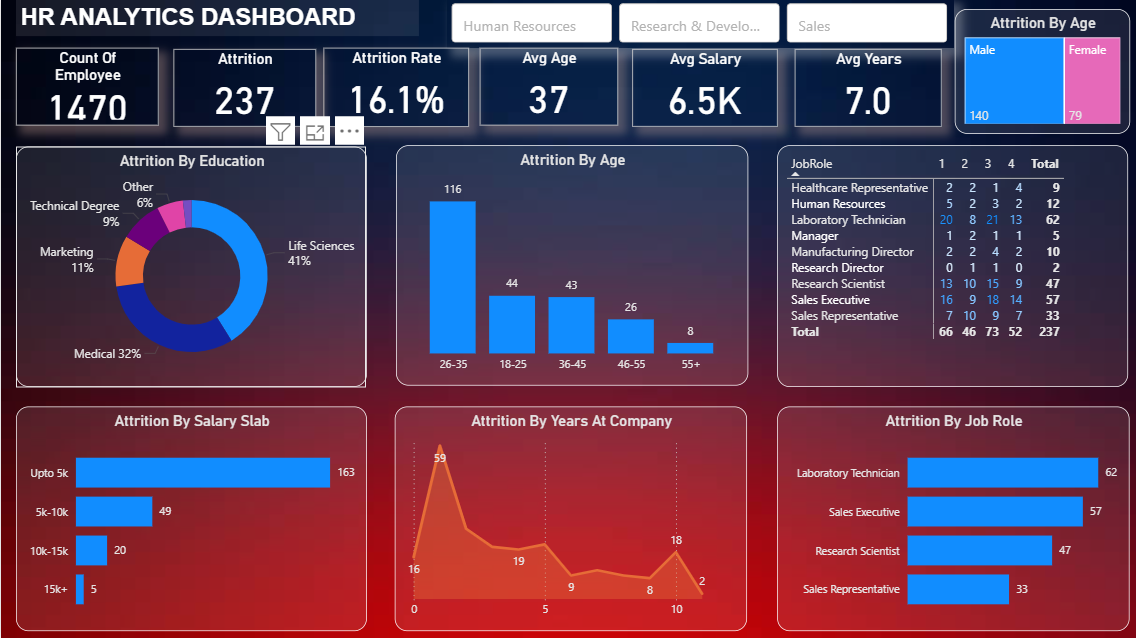

Layout of this report page (visuals, bound fields, positions):
{"tool":"powerbi","page":{"name":"Page 1","canvas":[1280,720],"ordinal":0},"visuals":[{"type":"card","title":"Count Of Employee","fields":{"Values":["CountNonNull(HR_Analytics.EmpID)"]},"box":[16.1,54.8,159.7,87.1],"z":0},{"type":"card","title":"Attrition Rate","fields":{"Values":["HR_Analytics.AttritionRate"]},"box":[361.3,54.8,162.9,88.7],"z":1000},{"type":"card","title":"Avg Age","fields":{"Values":["Avg(HR_Analytics.Age)"]},"box":[537.1,54.8,154.8,87.1],"z":2000},{"type":"card","title":"Attrition","fields":{"Values":["Sum(HR_Analytics.AttritionCount)"]},"box":[193.5,56.5,159.7,87.1],"z":3000},{"type":"card","title":"Avg Salary","fields":{"Values":["Avg(HR_Analytics.MonthlyIncome)"]},"box":[708.1,56.5,162.9,87.1],"z":4000},{"type":"card","title":"Avg Years","fields":{"Values":["Avg(HR_Analytics.YearsAtCompany)"]},"box":[890.3,56.5,164.5,87.1],"z":5000},{"type":"donutChart","title":"Attrition By Education","fields":{"Category":["HR_Analytics.EducationField"],"Y":["CountNonNull(HR_Analytics.Attrition)"]},"box":[16.1,166.1,393.5,269.4],"z":6000},{"type":"columnChart","title":"Attrition By Age","fields":{"Y":["Sum(HR_Analytics.AttritionCount)"],"Category":["HR_Analytics.AgeGroup"]},"box":[443.5,164.5,395.2,269.4],"z":7000},{"type":"pivotTable","fields":{"Rows":["HR_Analytics.JobRole"],"Columns":["HR_Analytics.JobSatisfaction"],"Values":["Sum(HR_Analytics.AttritionCount)"]},"box":[871,164.5,393.5,271],"z":8000},{"type":"barChart","title":"Attrition By Salary Slab","fields":{"Category":["HR_Analytics.SalarySlab"],"Y":["Sum(HR_Analytics.AttritionCount)"]},"box":[16.1,456.5,393.5,251.6],"z":9000},{"type":"barChart","title":"Attrition By Job Role","fields":{"Category":["HR_Analytics.JobRole"],"Y":["Sum(HR_Analytics.AttritionCount)"]},"box":[871,456.5,395.2,251.6],"z":10000},{"type":"areaChart","title":"Attrition By Years At Company","fields":{"Category":["HR_Analytics.YearsAtCompany"],"Y":["Sum(HR_Analytics.AttritionCount)"]},"box":[441.9,456.5,395.2,251.6],"z":11000},{"type":"treemap","title":"Attrition By Age","fields":{"Group":["HR_Analytics.Gender"],"Values":["Sum(HR_Analytics.AttritionCount)"]},"box":[1069.4,11.3,196.8,140.3],"z":12000},{"type":"advancedSlicerVisual","fields":{"Values":["HR_Analytics.Department"]},"box":[500,0,567.7,54.8],"z":13000},{"type":"textbox","box":[16.1,0,451.6,41.9],"z":14000}]}

Visuals, with their boxes in screenshot pixels (x1, y1, x2, y2), scaled from the page's 1280x720 canvas onto the 1136x638 screenshot:
"Count Of Employee" card: box(14, 49, 156, 126)
"Attrition Rate" card: box(321, 49, 465, 127)
"Avg Age" card: box(477, 49, 614, 126)
"Attrition" card: box(172, 50, 313, 127)
"Avg Salary" card: box(628, 50, 773, 127)
"Avg Years" card: box(790, 50, 936, 127)
"Attrition By Education" donutChart: box(14, 147, 364, 386)
"Attrition By Age" columnChart: box(394, 146, 744, 384)
pivotTable - HR_Analytics.JobRole x HR_Analytics.JobSatisfaction: box(773, 146, 1122, 386)
"Attrition By Salary Slab" barChart: box(14, 405, 364, 627)
"Attrition By Job Role" barChart: box(773, 405, 1124, 627)
"Attrition By Years At Company" areaChart: box(392, 405, 743, 627)
"Attrition By Age" treemap: box(949, 10, 1124, 134)
advancedSlicerVisual - HR_Analytics.Department: box(444, 0, 948, 49)
textbox: box(14, 0, 415, 37)
